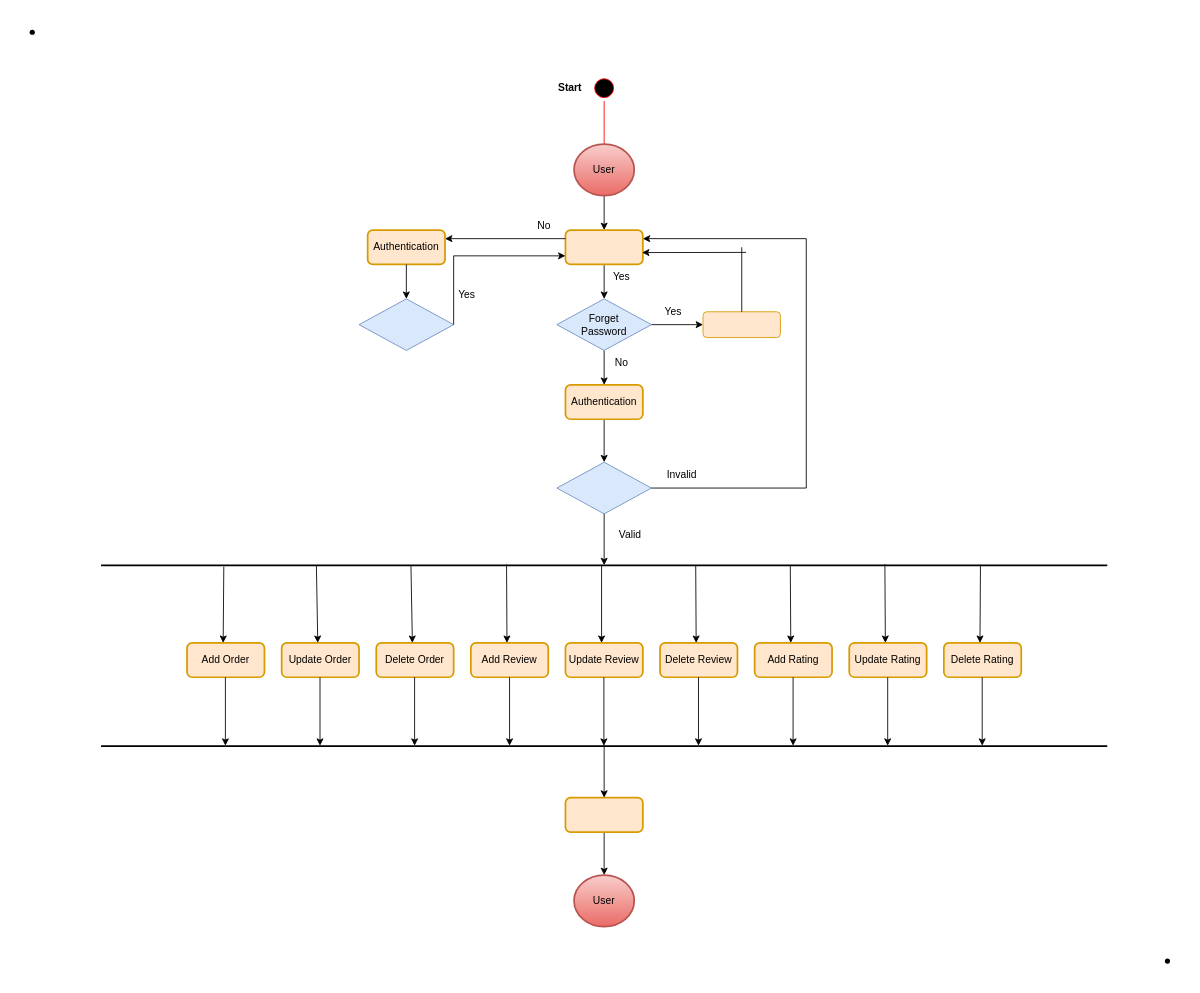
The diagram is 1200 pixels wide and 993 high, and some of its shapes have lost their labels. The shapes that lost their labels are listed below. From the top down, each one's centre as x and y in pixels, then its label:
At (603,247): "Login".
At (406,324): "Successful".
At (741,324): "Reset Password".
At (603,487): "Check".
At (603,814): "Logout".
